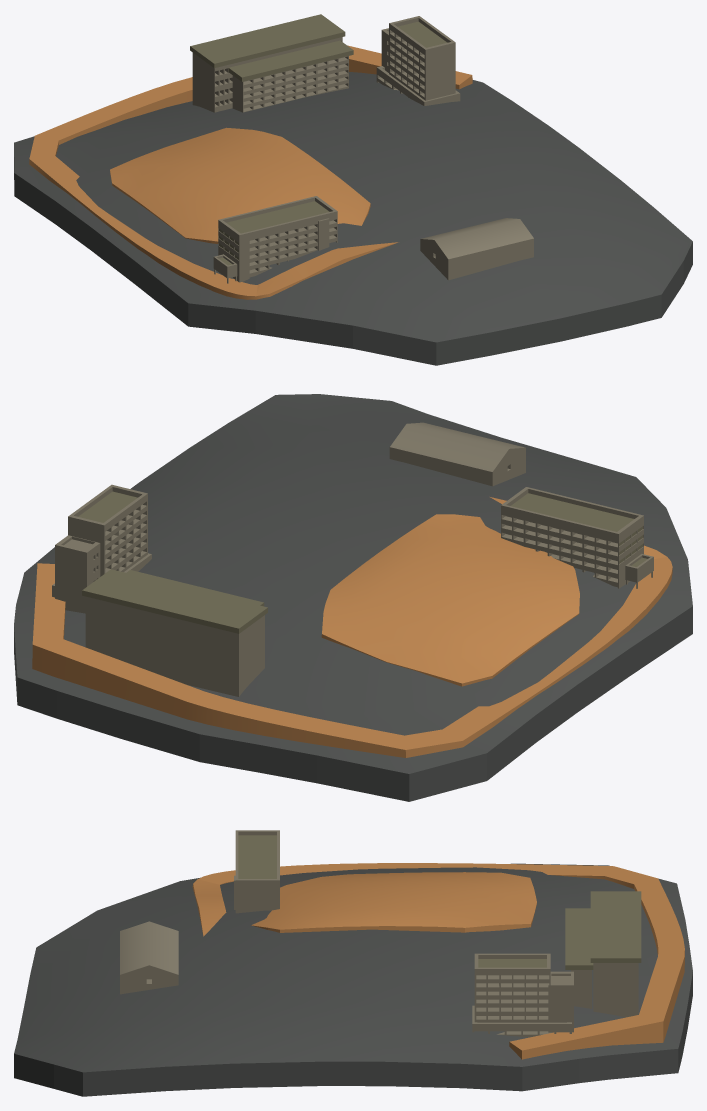
Rendered from SM_Worldmap_B02.FBX.
3 renders of one model, top to bottom at view 1: azimuth 30°, elevation 25°; view 2: azimuth 150°, elevation 25°; view 3: azimuth 270°, elevation 25°, orthographic. The views are drawn at different scales.
Visible parts, largest first — view 1: Box090; view 2: Box090; view 3: Box090.
Boxes of the visible parts, x1,y1,x2,y2 form: Box090: (14,14,692,365); Box090: (14,394,692,801); Box090: (14,830,692,1096).
Size of the model in its own units: 253 by 64.91 by 332.
